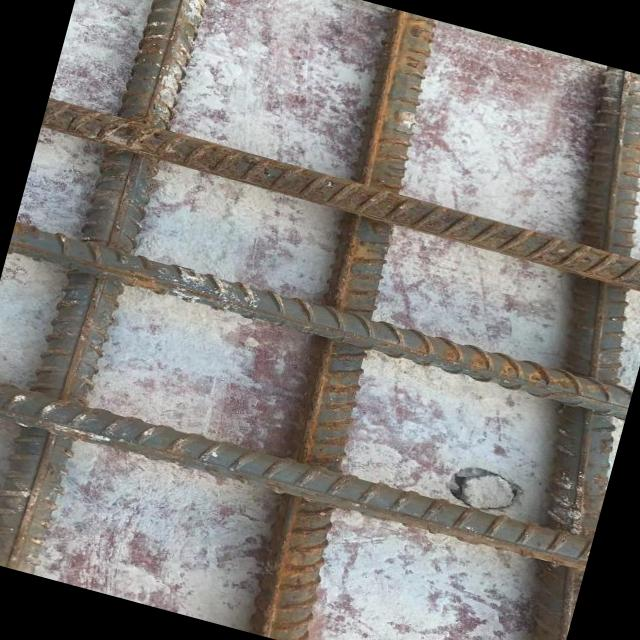ribbed bar: (220, 6, 472, 640), (0, 0, 222, 579), (6, 221, 633, 421), (0, 371, 592, 576), (431, 64, 640, 640), (40, 96, 640, 295)
